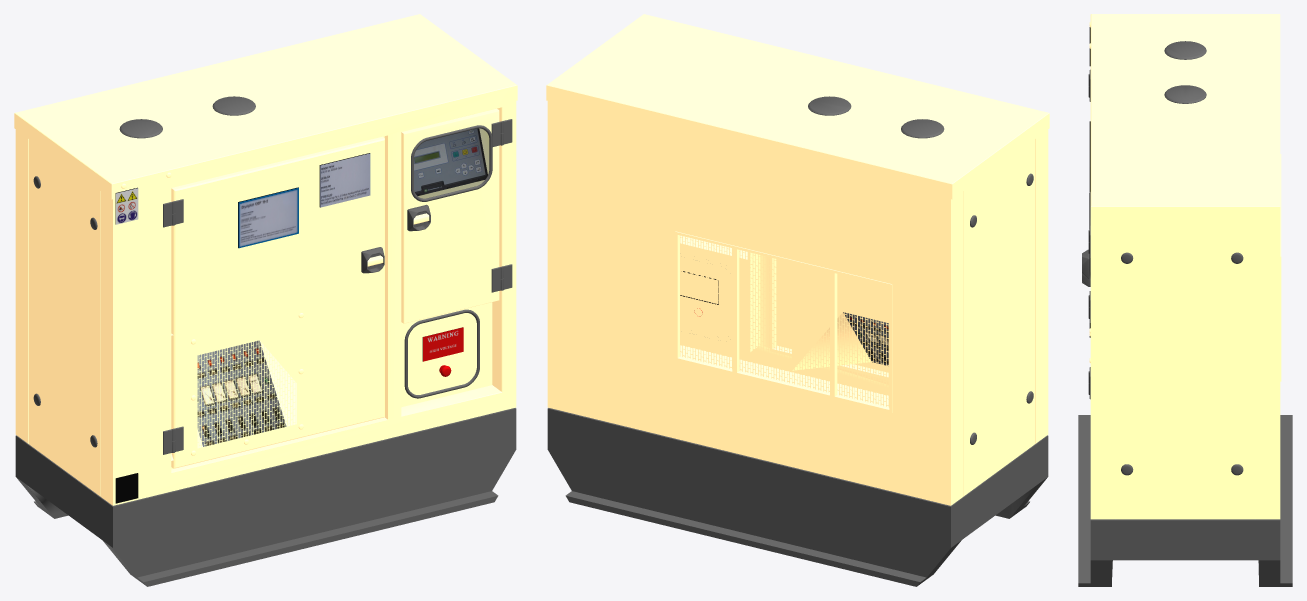
Rendered from Generator.fbx.
3 views of the same model, side by side, from view 1: azimuth 30°, elevation 25°; view 2: azimuth 150°, elevation 25°; view 3: azimuth 270°, elevation 25° (orthographic). The views are drawn at different scales.
Parts seen in each view (by area): view 1: Electric_generator_V2_mb:Object01; view 2: Electric_generator_V2_mb:Object01; view 3: Electric_generator_V2_mb:Object01.
Part boxes in pixels (x1,y1,x2,y2): Electric_generator_V2_mb:Object01: (14,14,517,586); Electric_generator_V2_mb:Object01: (546,14,1049,586); Electric_generator_V2_mb:Object01: (1078,14,1292,586).
Size of the model in its own units: 173 by 166 by 81.13.
6 materials, 2 textured.
